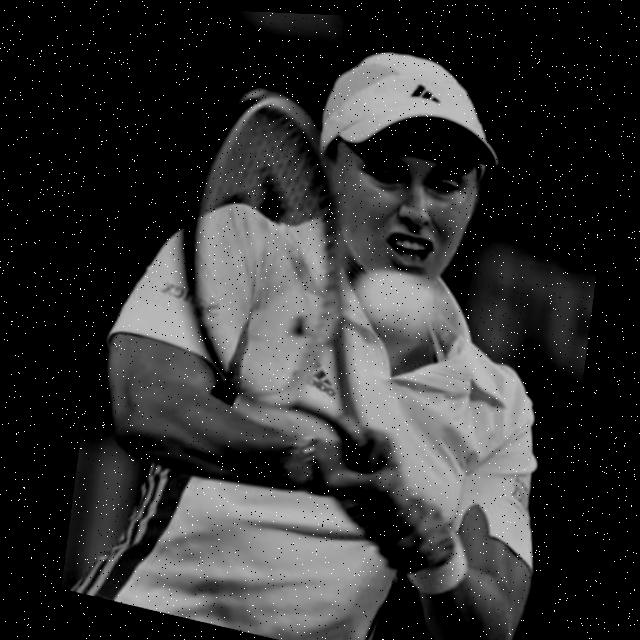face: (286, 24, 516, 325)
